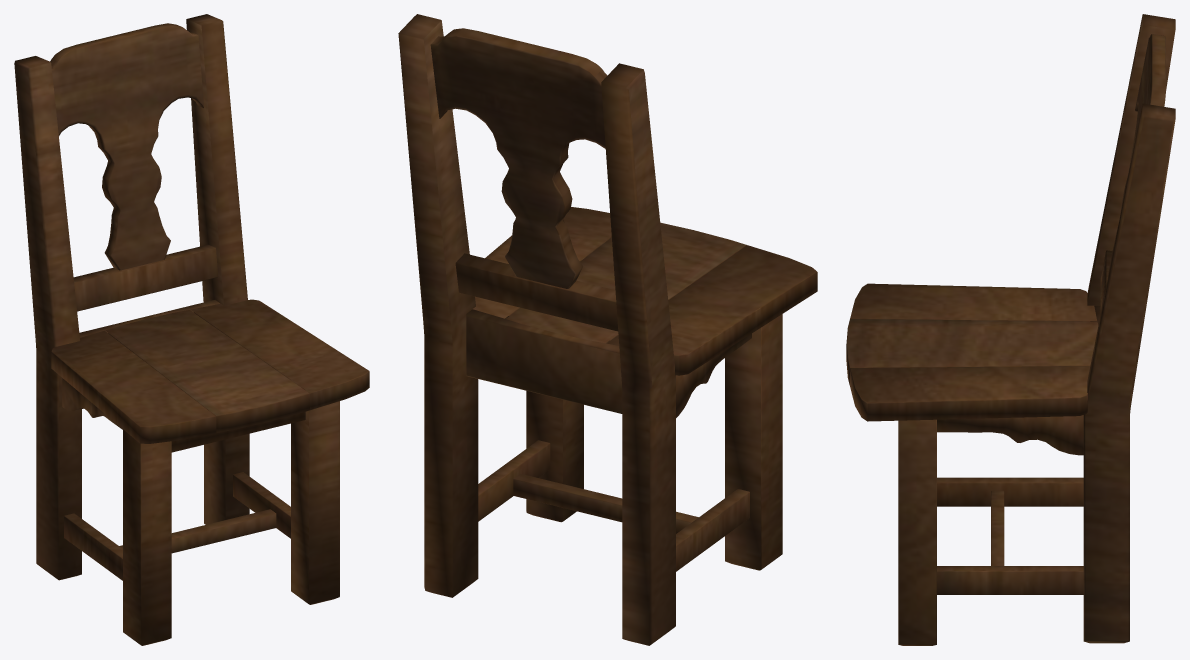
Rendered from chair strong_01.obj.
3 renders of one model, left to right at view 1: azimuth 30°, elevation 25°; view 2: azimuth 150°, elevation 25°; view 3: azimuth 270°, elevation 25°, orthographic. The views are drawn at different scales.
Parts seen in each view (by area): view 1: Plane_Plane.004; view 2: Plane_Plane.004; view 3: Plane_Plane.004.
Part boxes in pixels (x1,y1,x2,y2): Plane_Plane.004: (14,14,369,645); Plane_Plane.004: (398,14,817,645); Plane_Plane.004: (846,14,1175,645).
Bounding box in the file's own units: 0.8652 × 1.8 × 1.
Materials: 1 (1 with a texture image).
